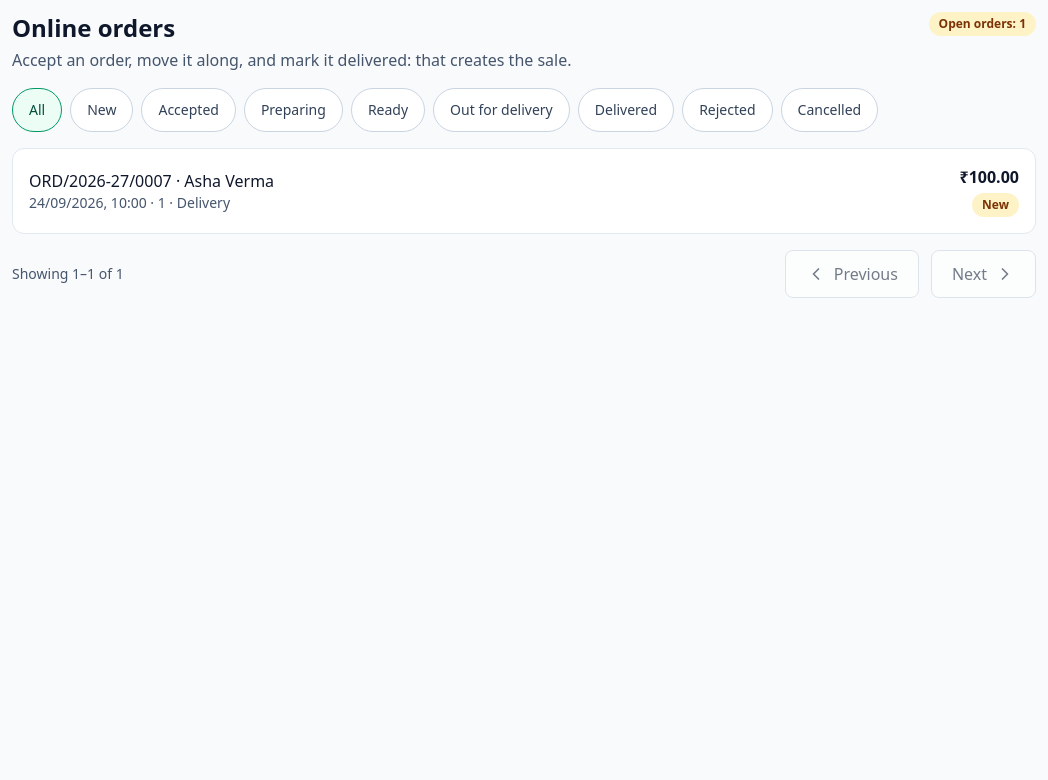
Test: shop orders screen › offers only the steps the order can take and accepts it
This screenshot has width=1048, height=780.
Click the button "ORD/2026-27/0007" at (100, 181), box [13,149,1035,233]
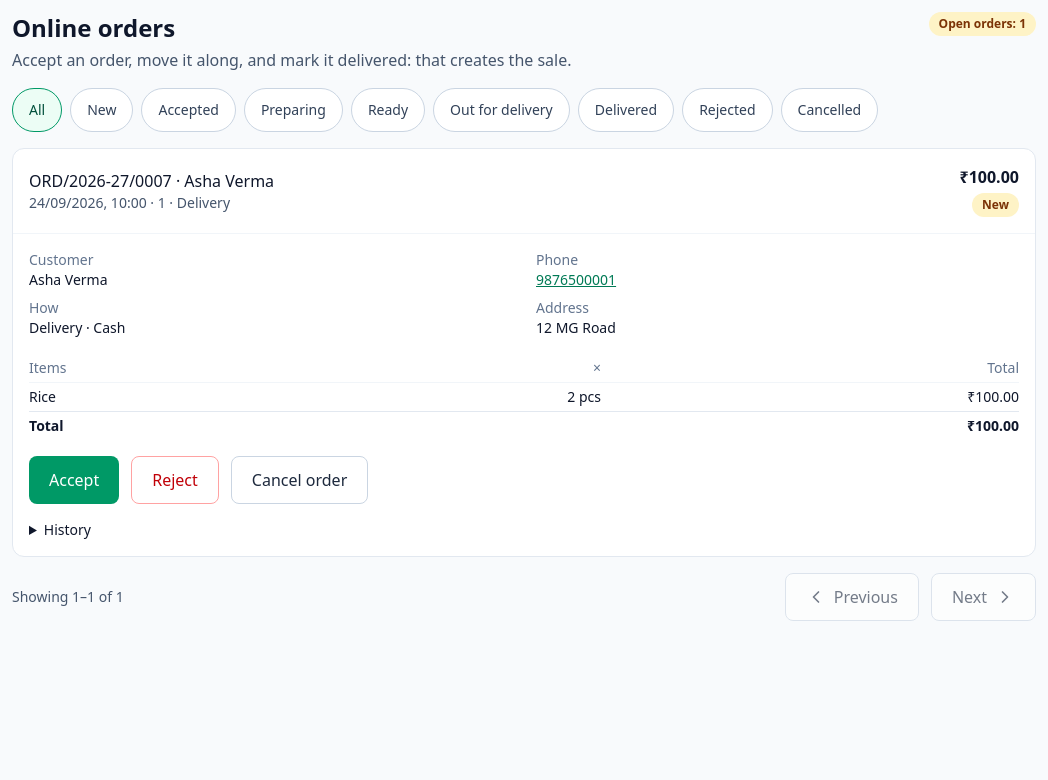
Check: the button "Accept" is shown
Click the button "Accept" at (74, 480), box [29,456,119,504]
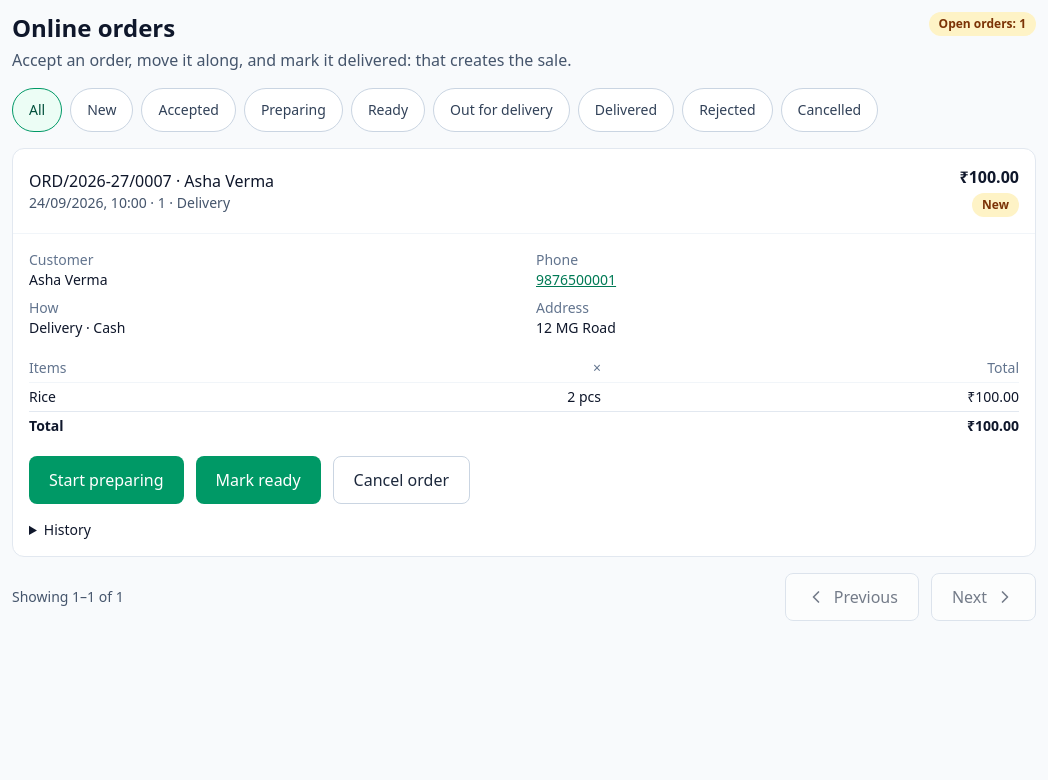
Check: the button "Start preparing" is shown, box [29,456,184,504]
